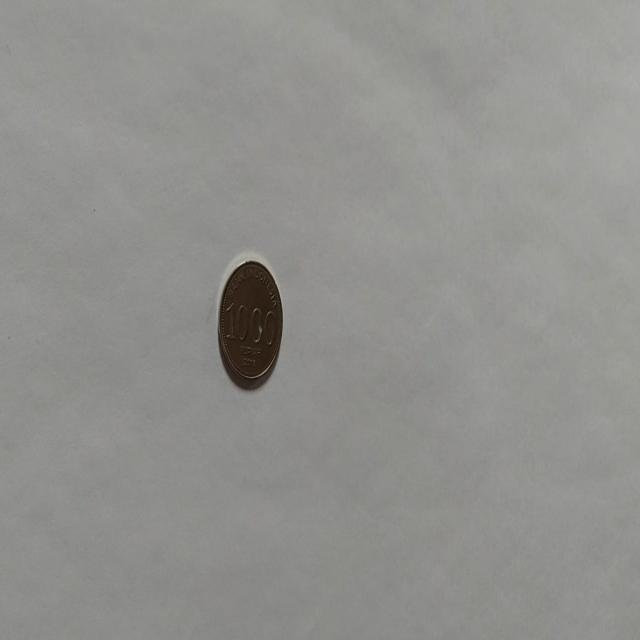seribu rupiah koin: (216, 255, 284, 390)
